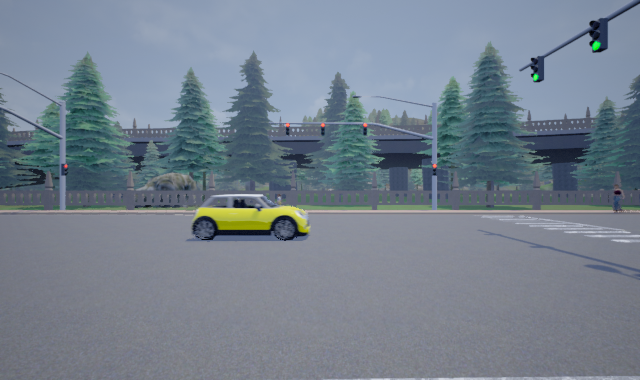pedestrian: (609, 183, 624, 214), (273, 191, 285, 212)
vehicle: (190, 193, 310, 240)
